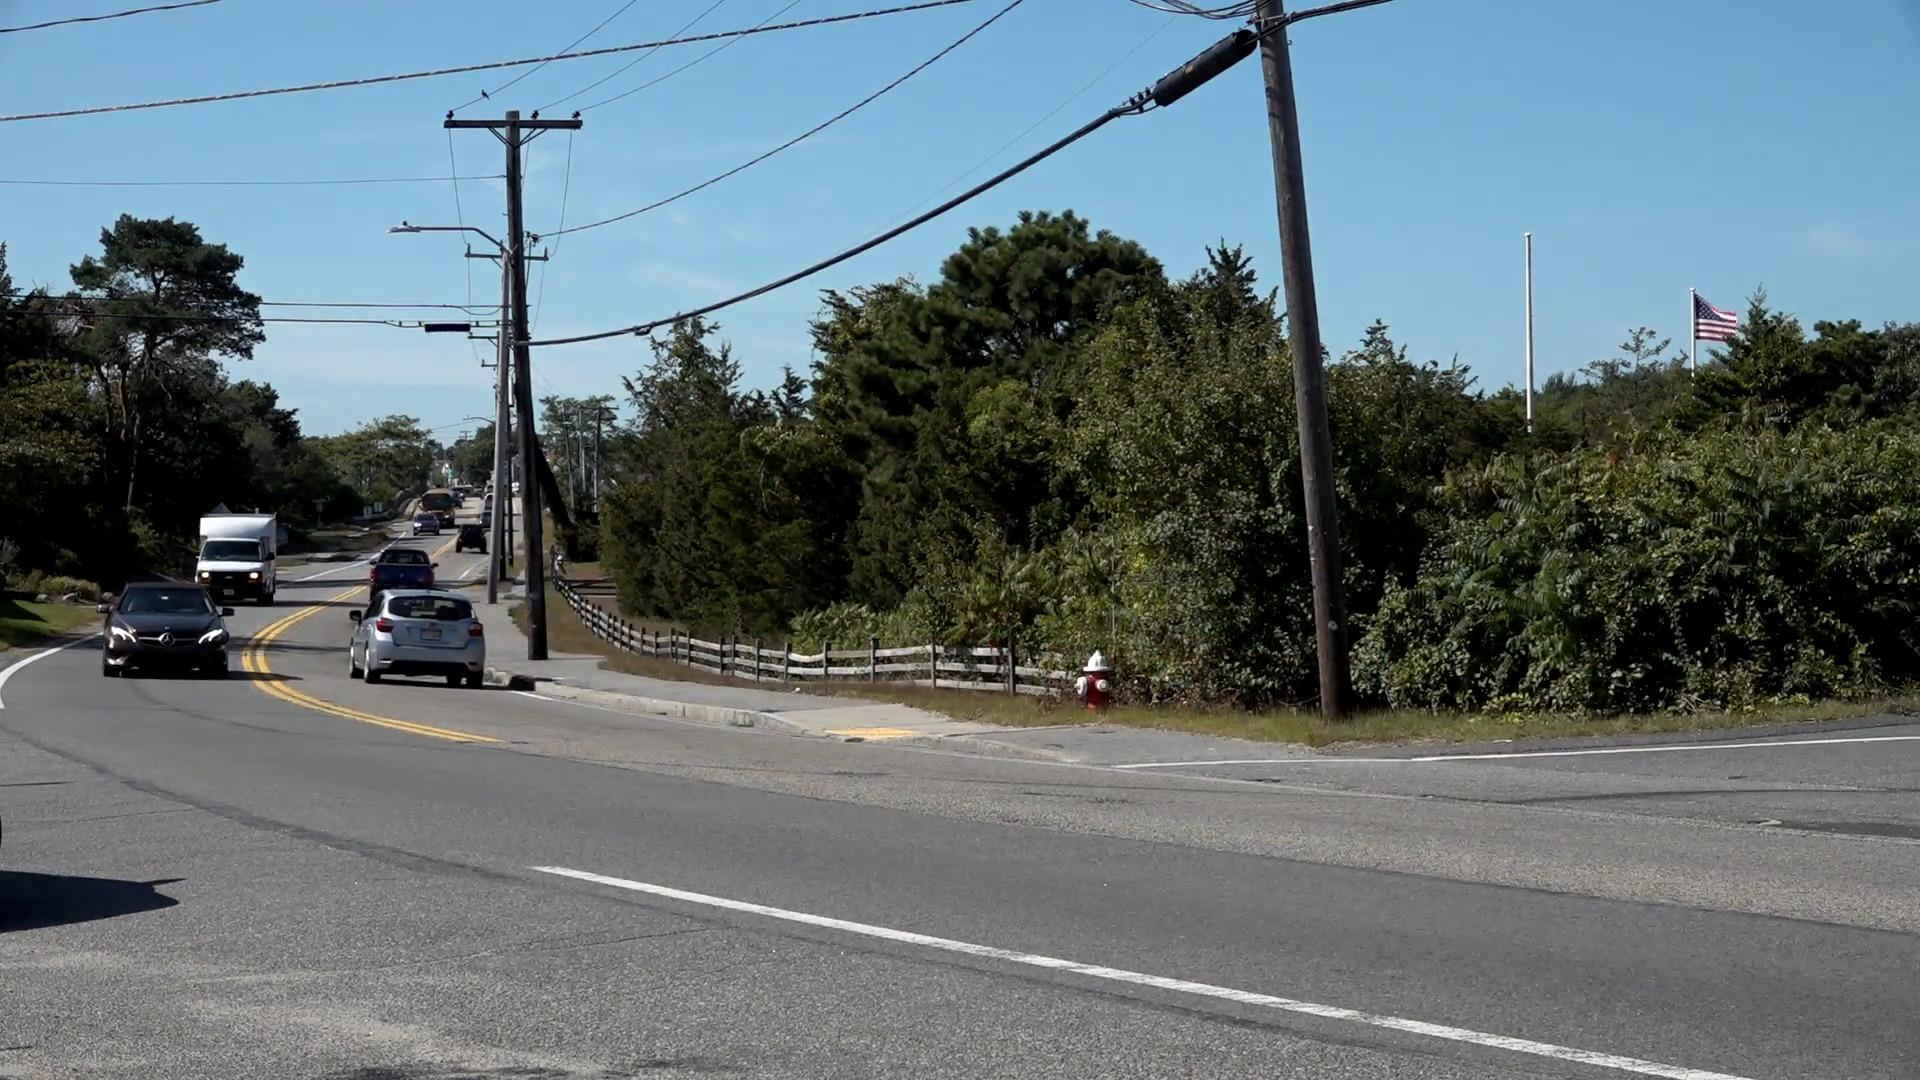pickup: (371, 544, 437, 584)
sedans: (347, 587, 489, 689), (103, 586, 233, 680)
truck: (193, 514, 284, 599)
